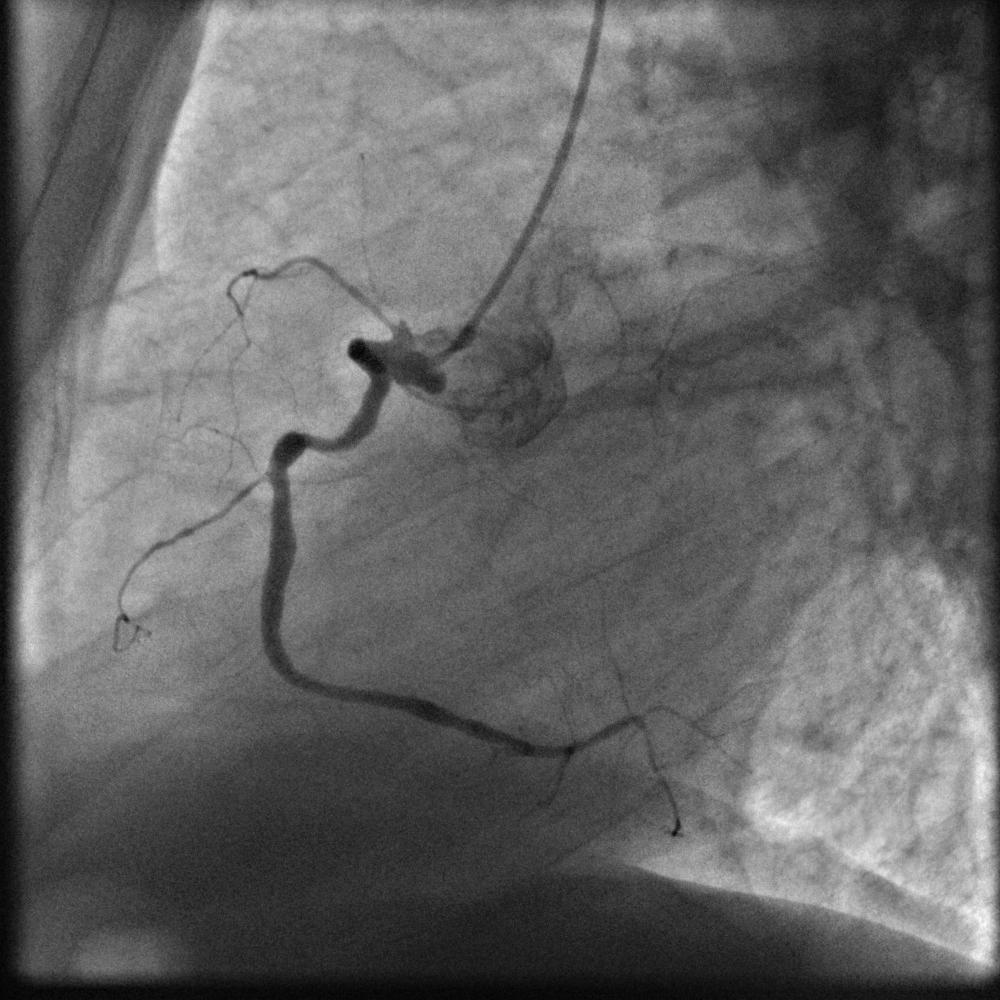Stenosis: (297, 428, 340, 463)
